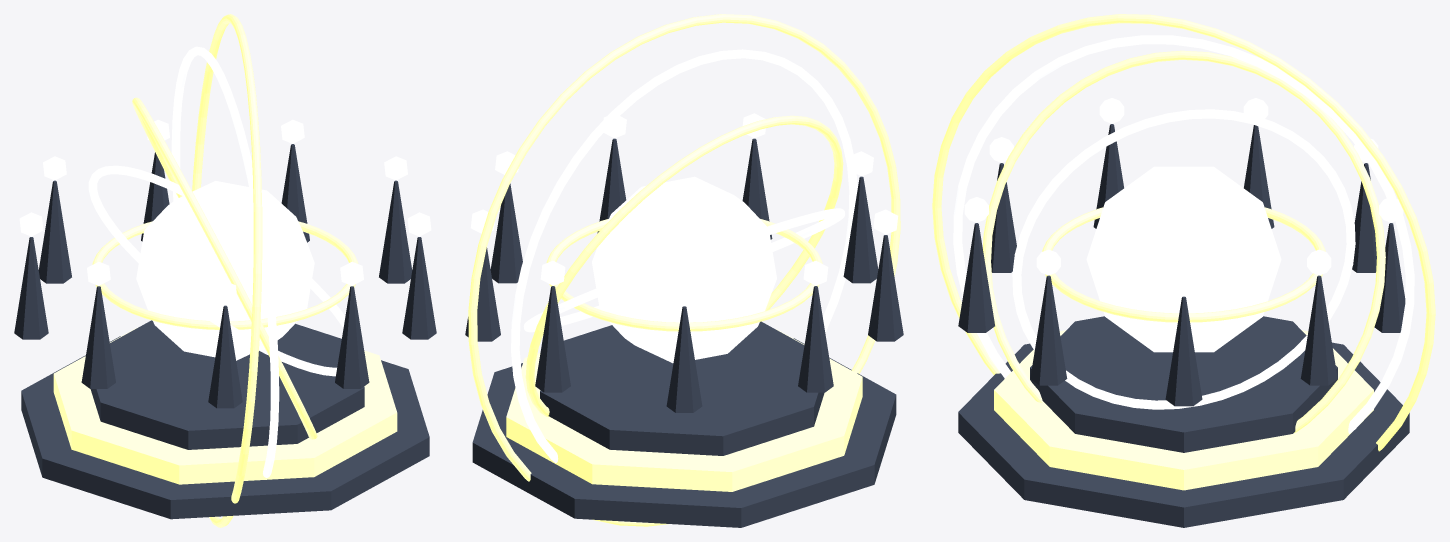
The model's file is gpu-blender-v12.glb.
3 renders of one model, left to right at view 1: azimuth 30°, elevation 25°; view 2: azimuth 150°, elevation 25°; view 3: azimuth 270°, elevation 25°, orthographic. The views are drawn at different scales.
Parts seen in each view (by area): view 1: Cylinder.002, Cylinder, SovereignCore_zoth-os-website, Cylinder.001, Torus.004, Torus.003, Torus.001, Torus.002, Torus, Cone.006, Cone.004, Cone.008 (+6 smaller); view 2: Cylinder.002, SovereignCore_zoth-os-website, Cylinder, Cylinder.001, Torus.004, Torus.003, Torus.002, Torus.001, Torus, Cone.005, Cone.002, Cone.004 (+6 smaller); view 3: SovereignCore_zoth-os-website, Cylinder.002, Cylinder, Cylinder.001, Torus.004, Torus.003, Torus.002, Torus.001, Torus, Cone, Cone.001, Cone.008 (+6 smaller).
Part boxes in pixels (box(x1,y1,x2,y2)): Cylinder.002: box(90, 320, 364, 449); Cylinder: box(21, 336, 429, 519); SovereignCore_zoth-os-website: box(136, 181, 314, 360); Cylinder.001: box(53, 327, 397, 484); Torus.004: box(192, 14, 262, 527); Torus.003: box(171, 46, 279, 479); Torus.001: box(88, 165, 345, 376); Torus.002: box(132, 97, 317, 439); Torus: box(92, 221, 358, 329); Cone.006: box(208, 305, 242, 408); Cone.004: box(14, 237, 48, 339); Cone.008: box(402, 237, 436, 339); Cylinder.002: box(540, 321, 824, 455); SovereignCore_zoth-os-website: box(592, 176, 776, 363); Cylinder: box(472, 338, 896, 527); Cylinder.001: box(506, 329, 862, 491); Torus.004: box(468, 14, 900, 526); Torus.003: box(511, 49, 857, 462); Torus.002: box(525, 115, 843, 416); Torus.001: box(523, 208, 844, 332); Torus: box(546, 219, 822, 331); Cone.005: box(868, 235, 903, 341); Cone.002: box(535, 286, 570, 392); Cone.004: box(798, 286, 833, 392); SovereignCore_zoth-os-website: box(1086, 166, 1281, 352); Cylinder.002: box(1030, 316, 1337, 452); Cylinder: box(958, 342, 1409, 527); Cylinder.001: box(994, 330, 1373, 490); Torus.004: box(932, 14, 1435, 451); Torus.003: box(953, 35, 1414, 433); Torus.002: box(983, 50, 1385, 432); Torus.001: box(1012, 109, 1355, 409); Torus: box(1042, 207, 1325, 322); Cone: box(1165, 296, 1202, 406); Cone.001: box(1300, 275, 1337, 385); Cone.008: box(1030, 275, 1067, 385).
Size of the model in its own units: 4.41 by 5.33 by 4.9.
